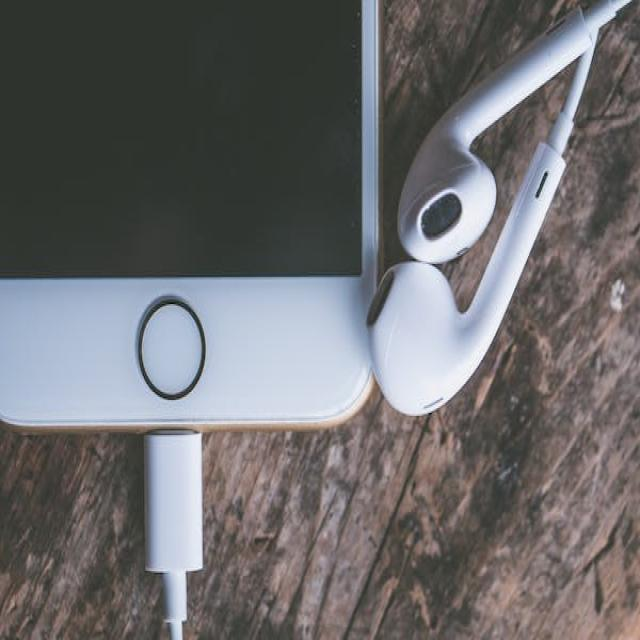Earphone: (144, 0, 632, 640)
